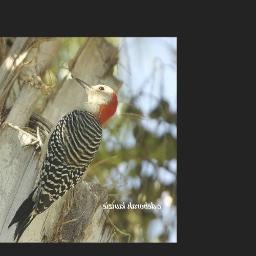Woodpecker: (6, 77, 122, 242)
